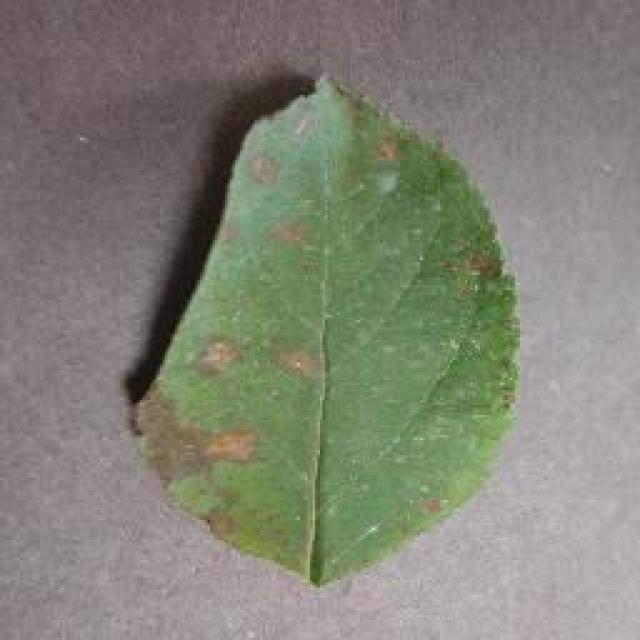apple cedar apple rust: (128, 72, 522, 588)
